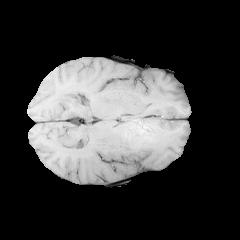glioma: (120, 112, 157, 152)
